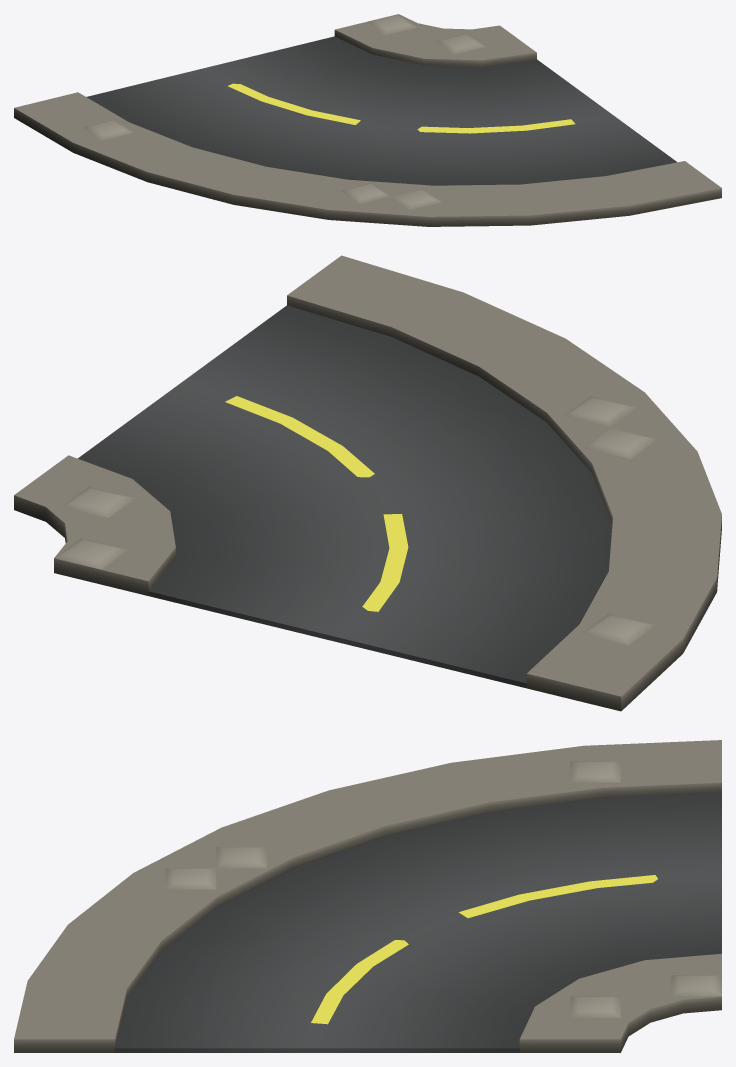
File: Road_1D.fbx
The picture shows the model from 3 angles, top to bottom: view 1: azimuth 30°, elevation 25°; view 2: azimuth 150°, elevation 25°; view 3: azimuth 270°, elevation 25°; orthographic projection. The views are drawn at different scales.
Visible parts, largest first — view 1: Road_1D; view 2: Road_1D; view 3: Road_1D.
Boxes of the visible parts, x1,y1,x2,y2 form: Road_1D: (14,14,721,226); Road_1D: (14,255,721,711); Road_1D: (14,740,721,1052).
Bounding box in the file's own units: 14 × 0.3565 × 14.
